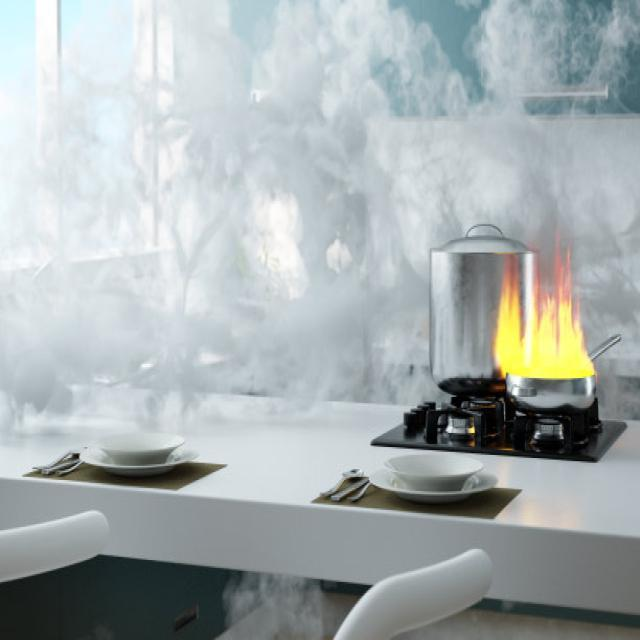Fire: (492, 234, 598, 388)
